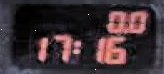-: (122, 26, 127, 32)
0: (127, 9, 146, 33), (106, 10, 122, 32)
1: (34, 35, 49, 60), (91, 35, 102, 61)
6: (102, 35, 124, 64)
7: (51, 32, 71, 60)
X: (72, 39, 79, 55)
